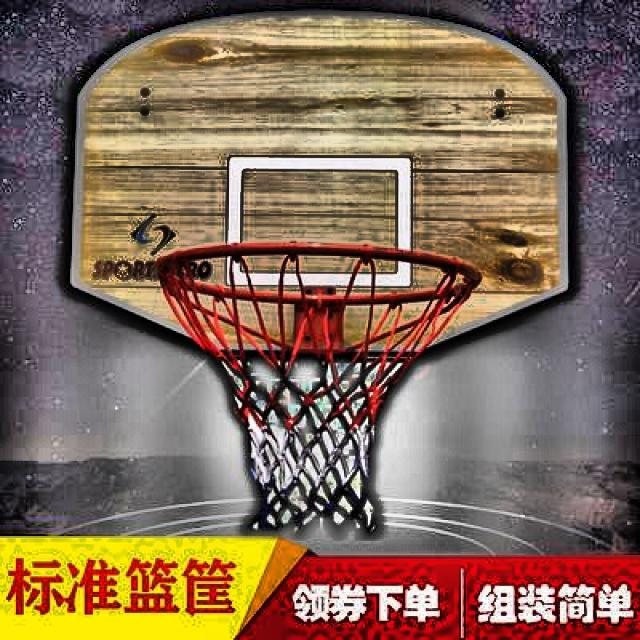rim: (150, 243, 478, 533)
